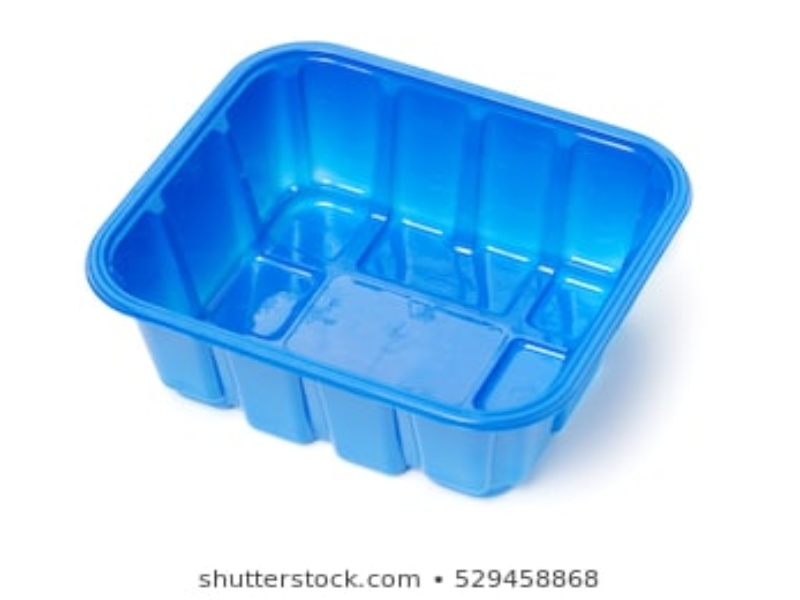plastic-container: (83, 38, 694, 505)
